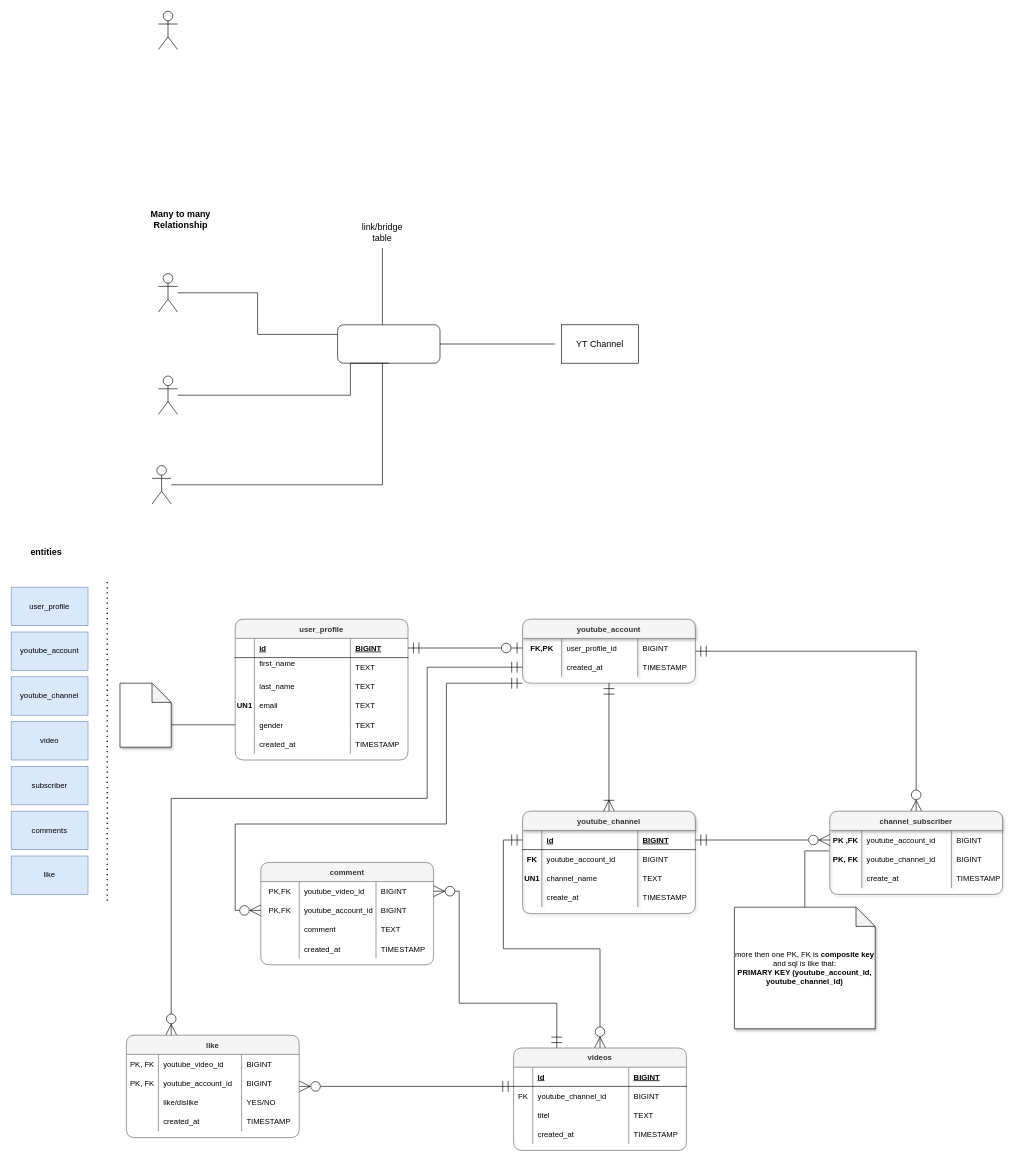
The diagram is 1018 pixels wide and 1162 high, and some of its shapes have lost their labels. Each missing label, with the centre of its shape:
Channel _subscriber: the point at 388,343
MALE,FAMEL: the point at 146,716
